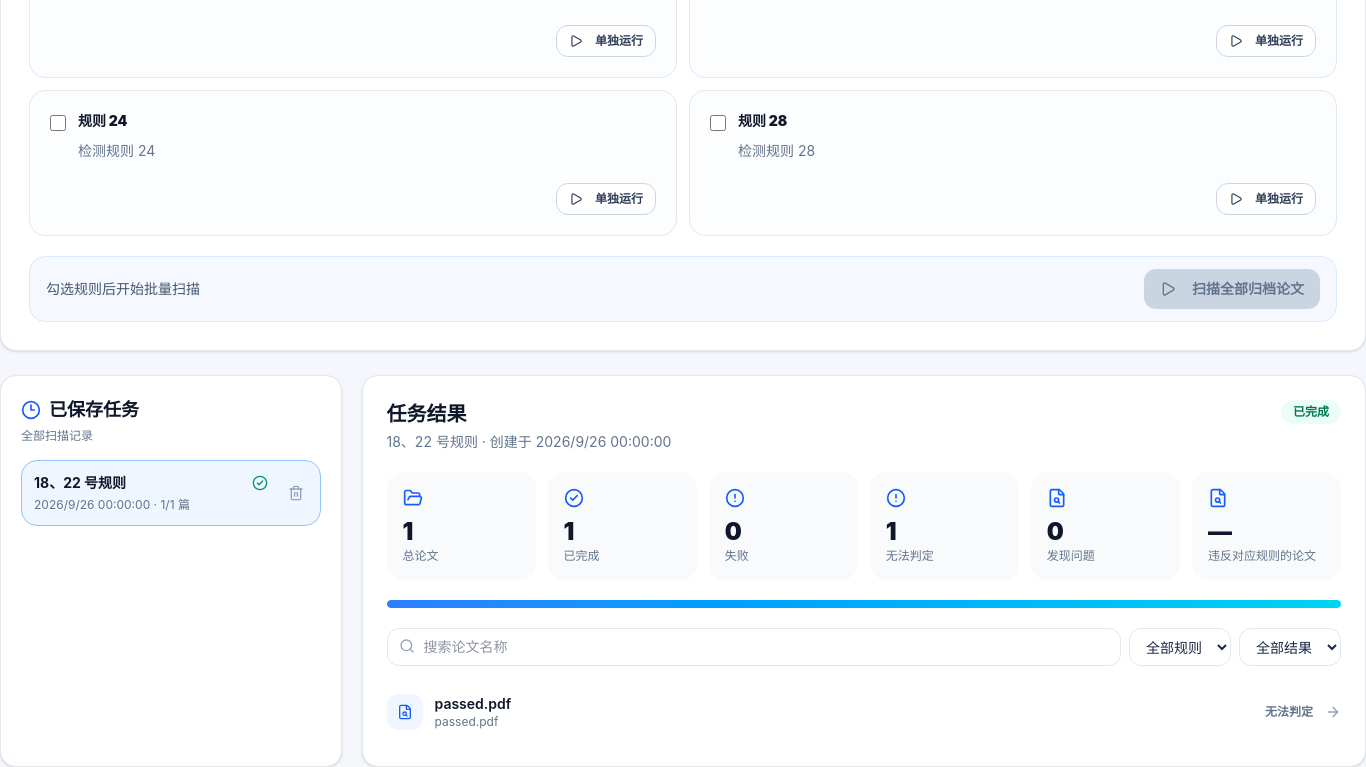
Test: archive counts follow the selected rule › uses the selected rule outcome despite other inconclusive results
This screenshot has width=1366, height=767.
(page scrolled)
Expected: the link "passed.pdf passed.pdf 无法判定" is shown, [386,682,1341,742]
Select "规则 18" in the dropdown named "按规则筛选" at (1180, 647), box [1129,628,1231,666]
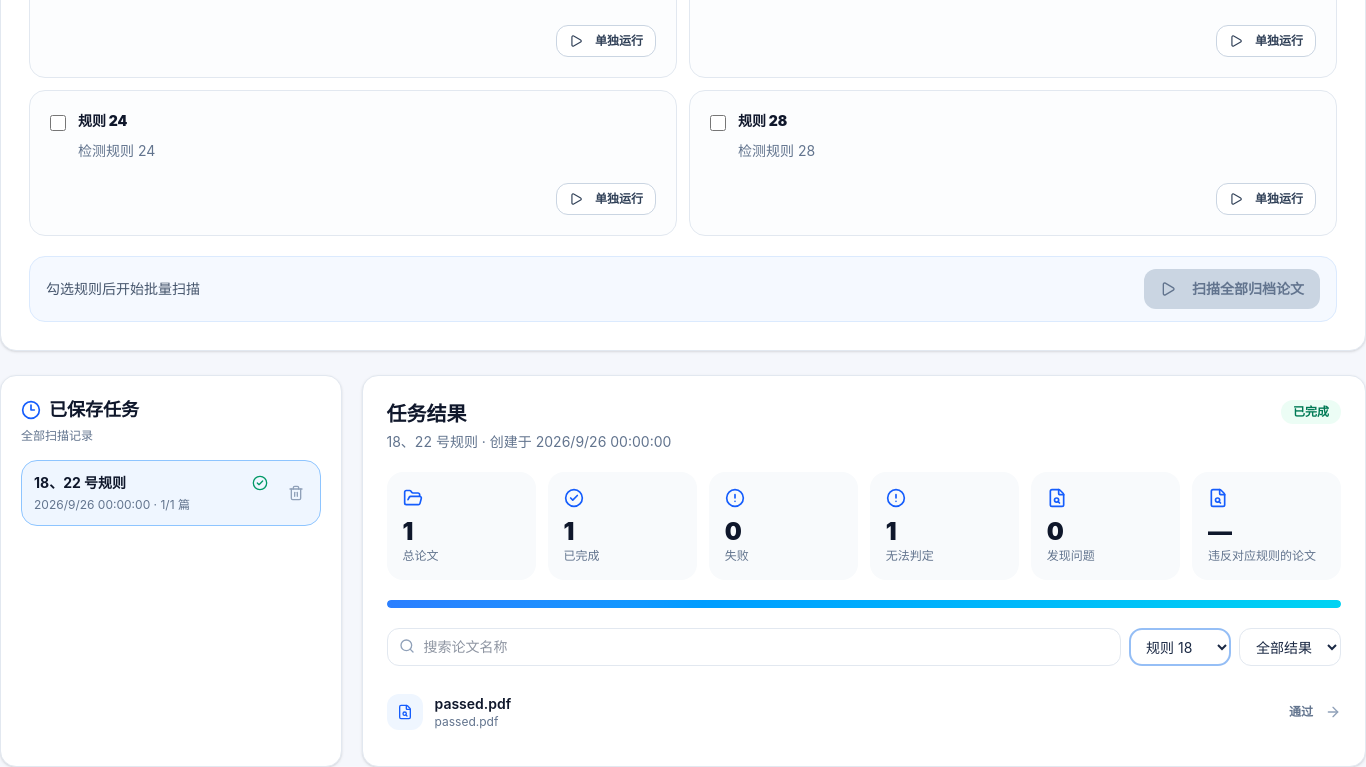
Expected: the link "passed.pdf passed.pdf 通过" does not show "无法判定", [386,682,1341,742]
Expected: the link "passed.pdf passed.pdf 通过" is shown, [386,682,1341,742]
